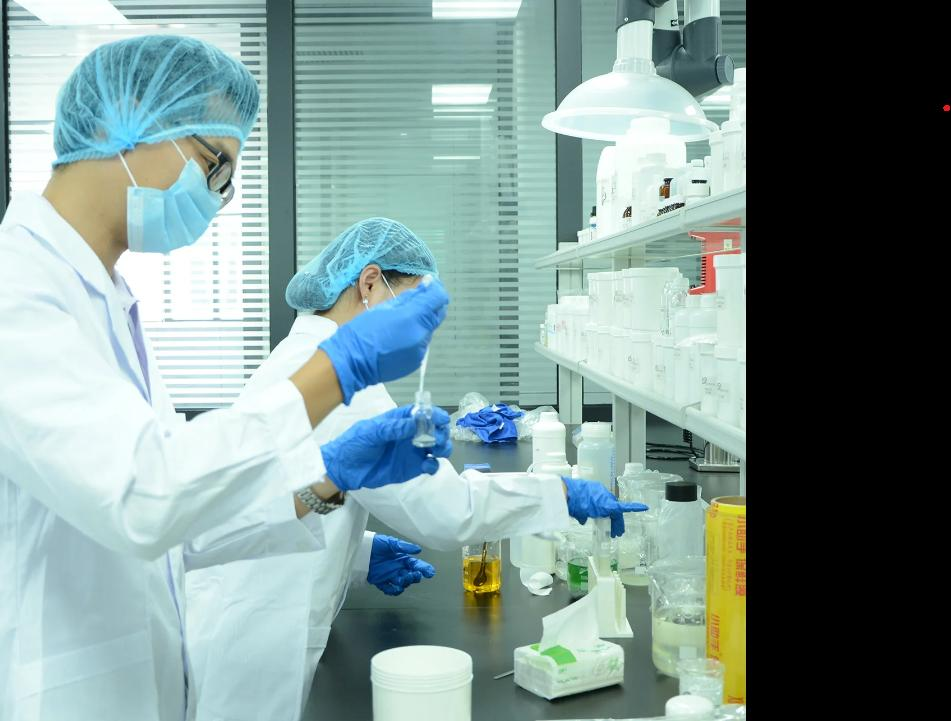hairnet: (26, 21, 283, 204), (278, 211, 451, 305)
mask: (126, 156, 240, 293)
